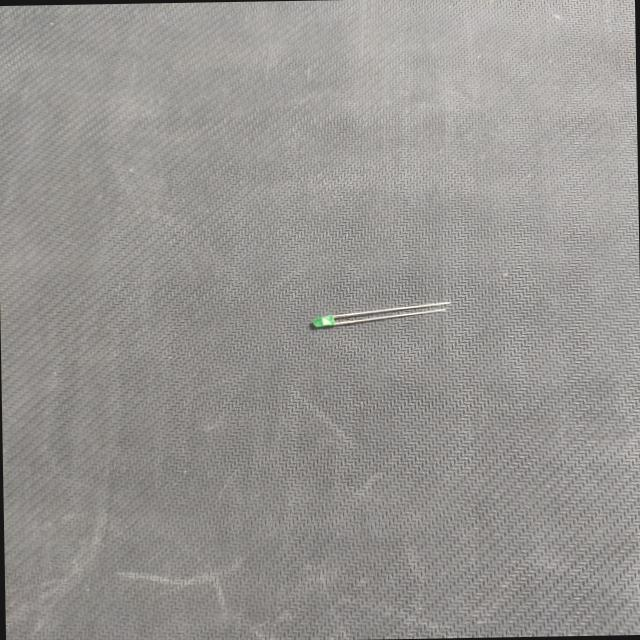led: (309, 301, 451, 330)
